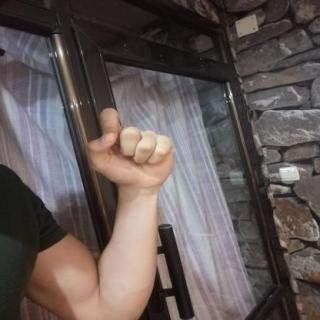FAA: (76, 101, 182, 197)
